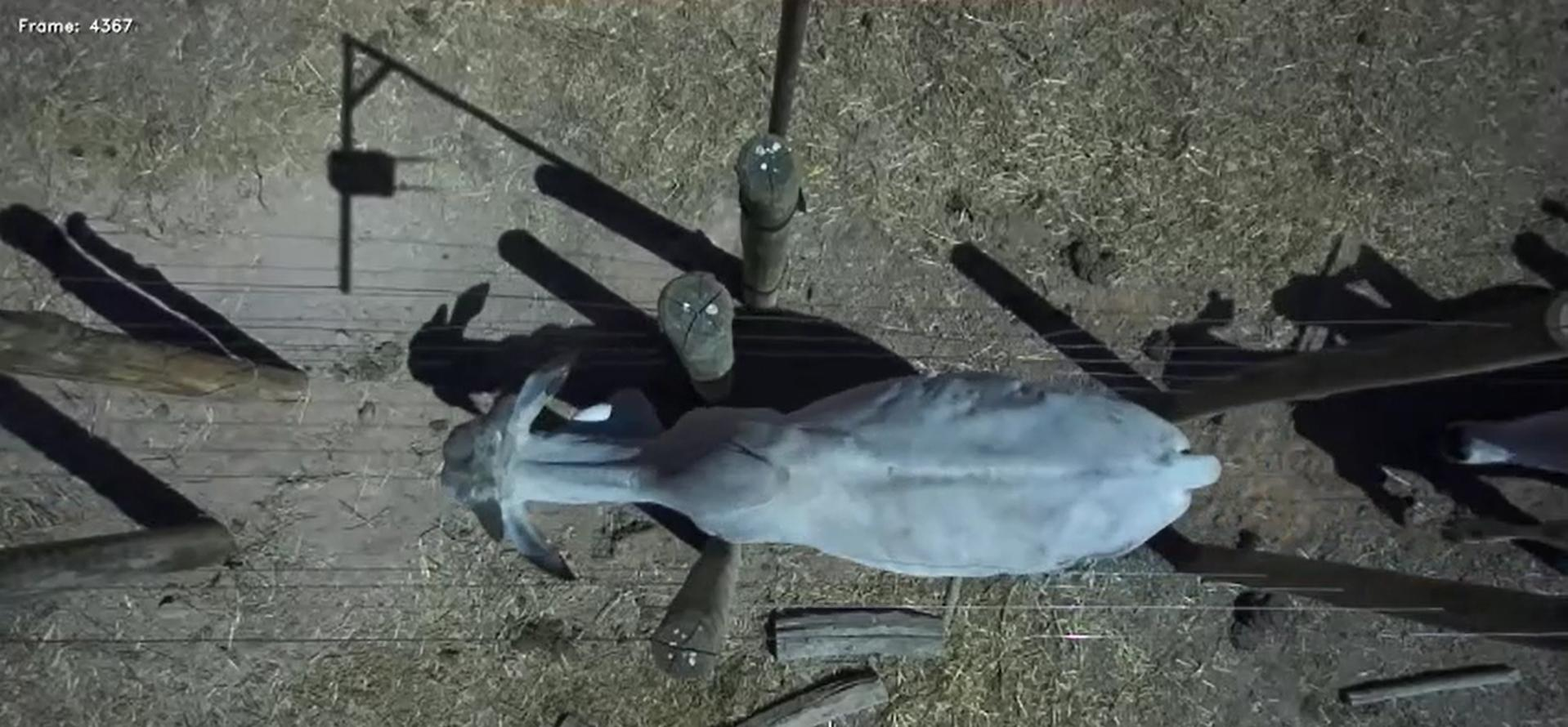cattle: (427, 330, 1232, 584)
